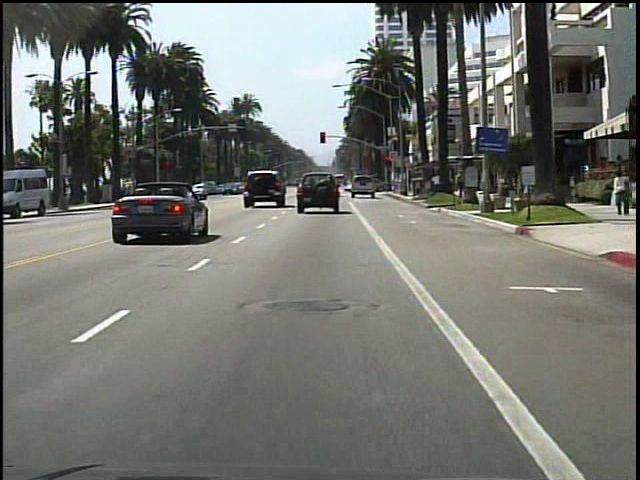person: (608, 168, 628, 217), (429, 171, 443, 196)
